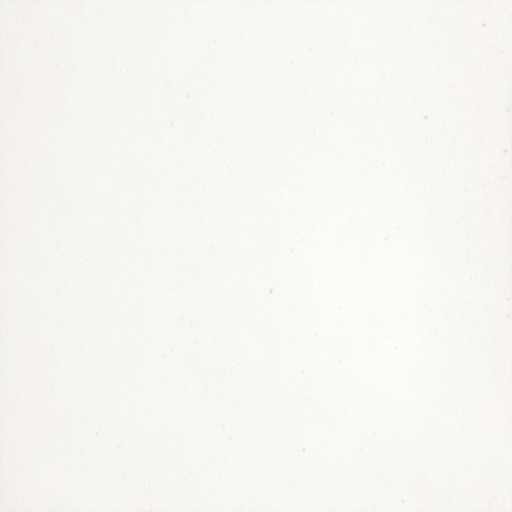lego: (217, 194, 295, 319)
